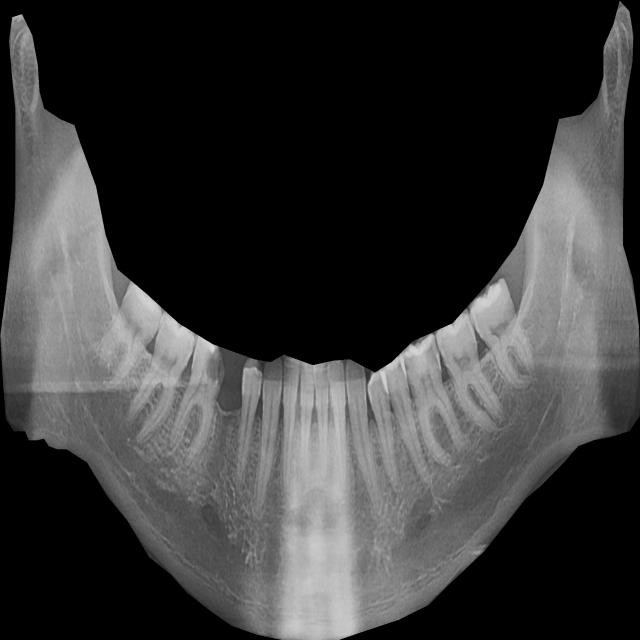mandibula: (0, 0, 640, 640)
